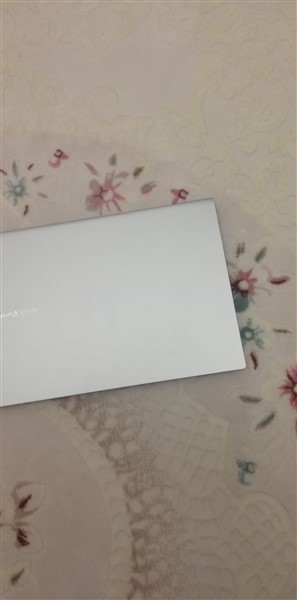laptop: (1, 191, 258, 409)
